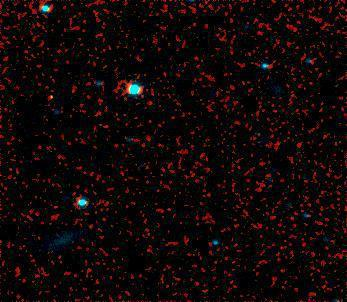star: (35, 82, 65, 112)
